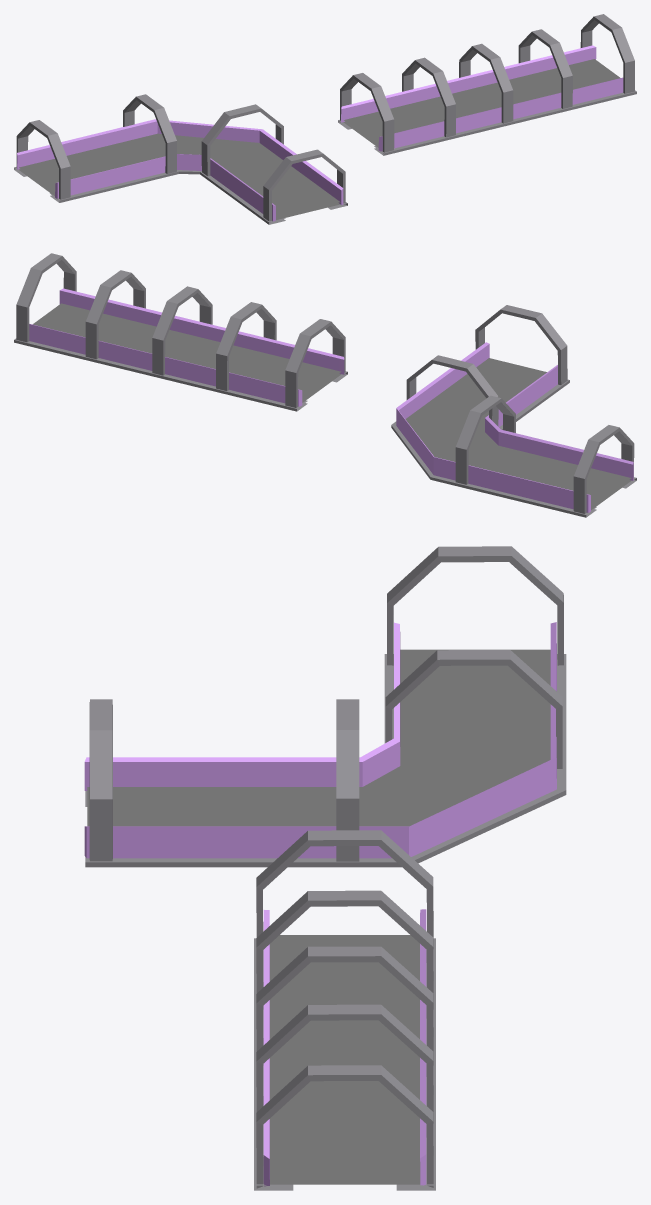
The model's file is Pista_Vazada.fbx.
The picture shows the model from 3 angles, top to bottom: view 1: azimuth 30°, elevation 25°; view 2: azimuth 150°, elevation 25°; view 3: azimuth 270°, elevation 25°; orthographic projection. The views are drawn at different scales.
Parts seen in each view (by area): view 1: Cube.020, Cube.014; view 2: Cube.020, Cube.014; view 3: Cube.020, Cube.014.
Boxes of the visible parts, left/top/right/bottom form: Cube.020: left=14, top=94, right=347, bottom=224; Cube.014: left=338, top=14, right=636, bottom=155; Cube.020: left=391, top=305, right=636, bottom=517; Cube.014: left=14, top=253, right=347, bottom=411; Cube.020: left=84, top=546, right=566, bottom=867; Cube.014: left=254, top=830, right=435, bottom=1190.
Size of the model in its own units: 20693 by 2069 by 7909.
